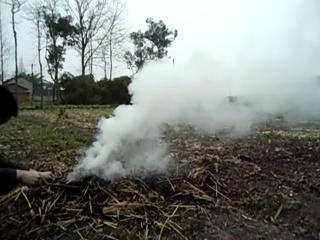smoke: (76, 50, 254, 176)
